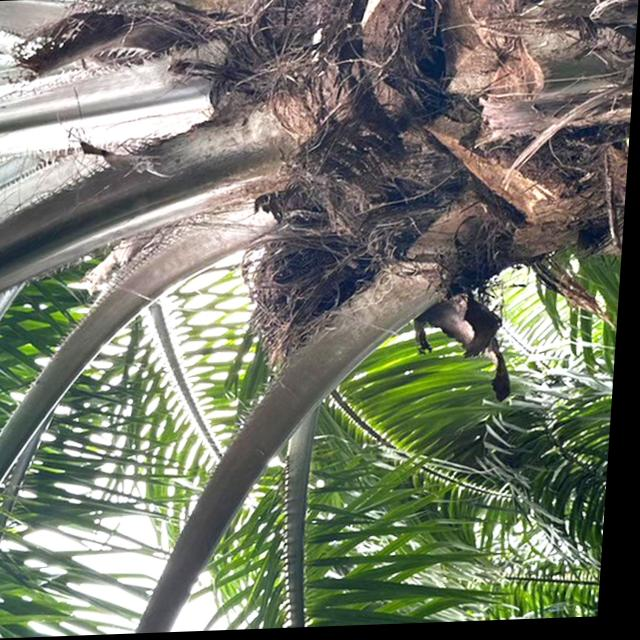unripe: (242, 241, 374, 372)
